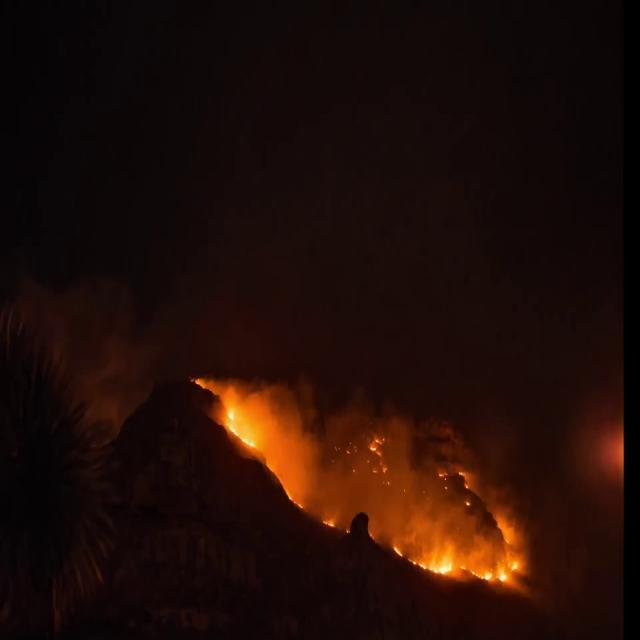Fire: (224, 407, 258, 448), (412, 552, 453, 576), (370, 432, 388, 474), (282, 486, 305, 509), (266, 457, 283, 485), (494, 514, 514, 536), (438, 470, 448, 490), (458, 469, 468, 488), (194, 378, 206, 391), (510, 561, 520, 573), (484, 568, 492, 582), (324, 518, 336, 526), (500, 572, 508, 582), (346, 446, 352, 454), (464, 499, 470, 506), (344, 528, 350, 534)
Smoke: (326, 402, 370, 452), (409, 498, 443, 546), (386, 412, 413, 470), (303, 432, 322, 514), (278, 382, 302, 440), (304, 376, 319, 424)
